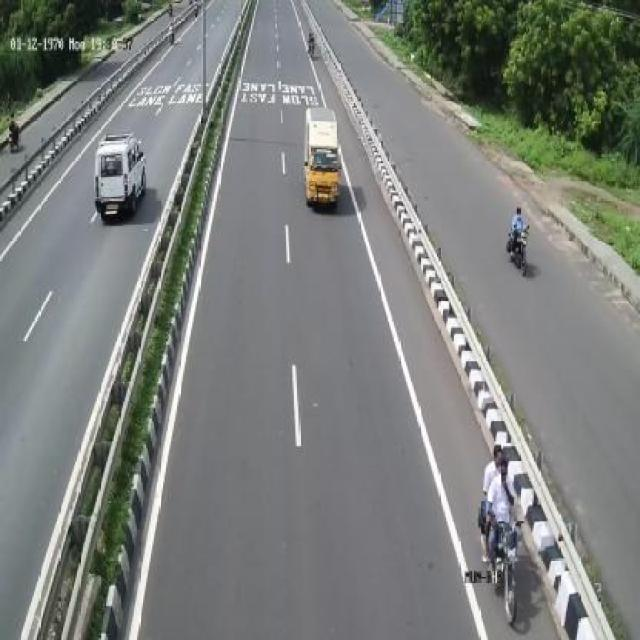car: (97, 128, 149, 222)
